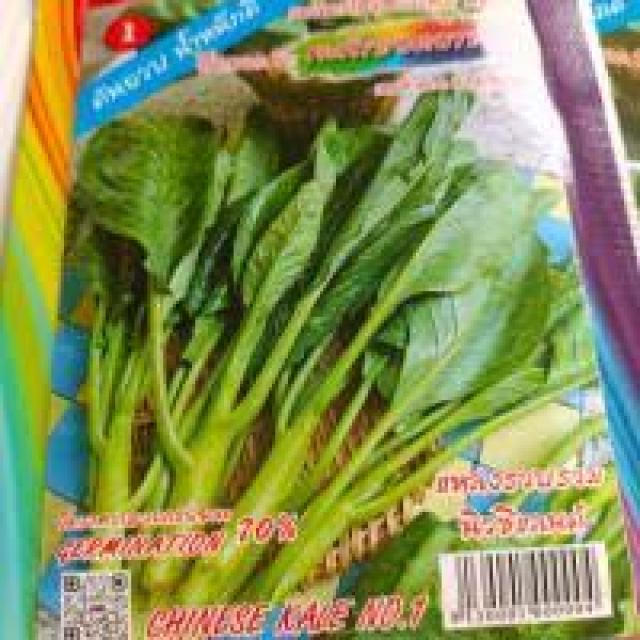collard: (96, 112, 580, 626)
